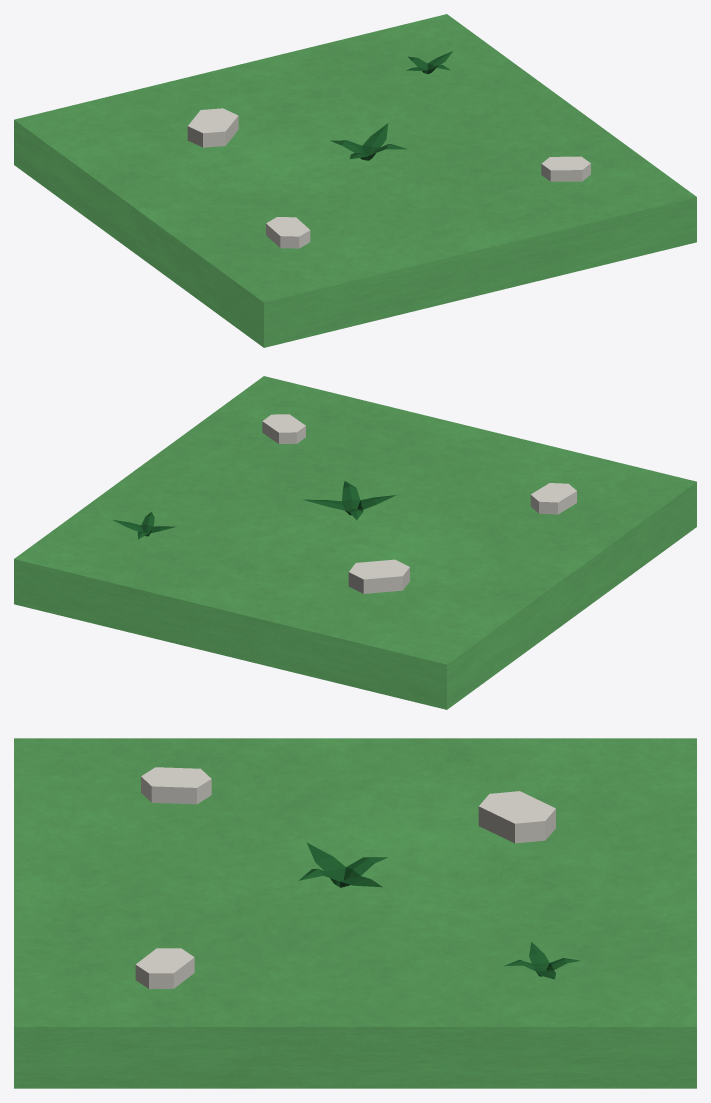
The model's file is ground_stone_and_grass.glb.
3 renders of one model, top to bottom at view 1: azimuth 30°, elevation 25°; view 2: azimuth 150°, elevation 25°; view 3: azimuth 270°, elevation 25°, orthographic. The views are drawn at different scales.
Parts seen in each view (by area): view 1: Floor1.003; view 2: Floor1.003; view 3: Floor1.003.
Part boxes in pixels (x1,y1,x2,y2): Floor1.003: (14, 14, 696, 347); Floor1.003: (14, 376, 696, 709); Floor1.003: (14, 738, 696, 1088).
Bounding box in the file's own units: 2 × 0.286 × 2.
Materials: 3 (1 with a texture image).
